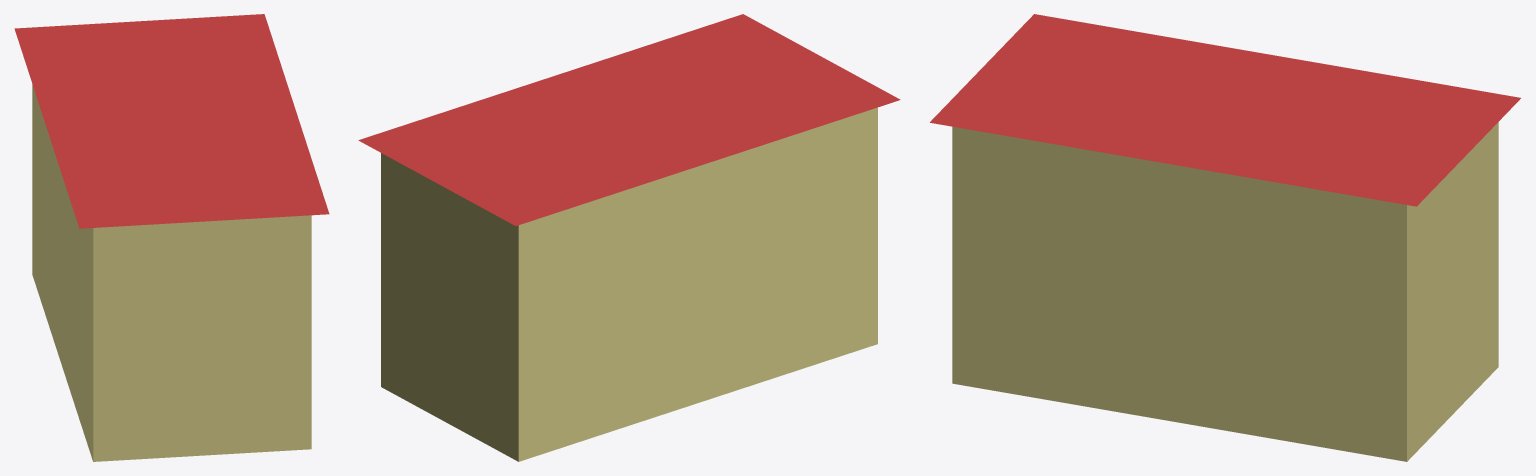
3 renders of one model, left to right at view 1: azimuth 30°, elevation 25°; view 2: azimuth 150°, elevation 25°; view 3: azimuth 270°, elevation 25°, orthographic. The views are drawn at different scales.
Bounding box in the file's own units: 12.95 × 16.81 × 8.3.
